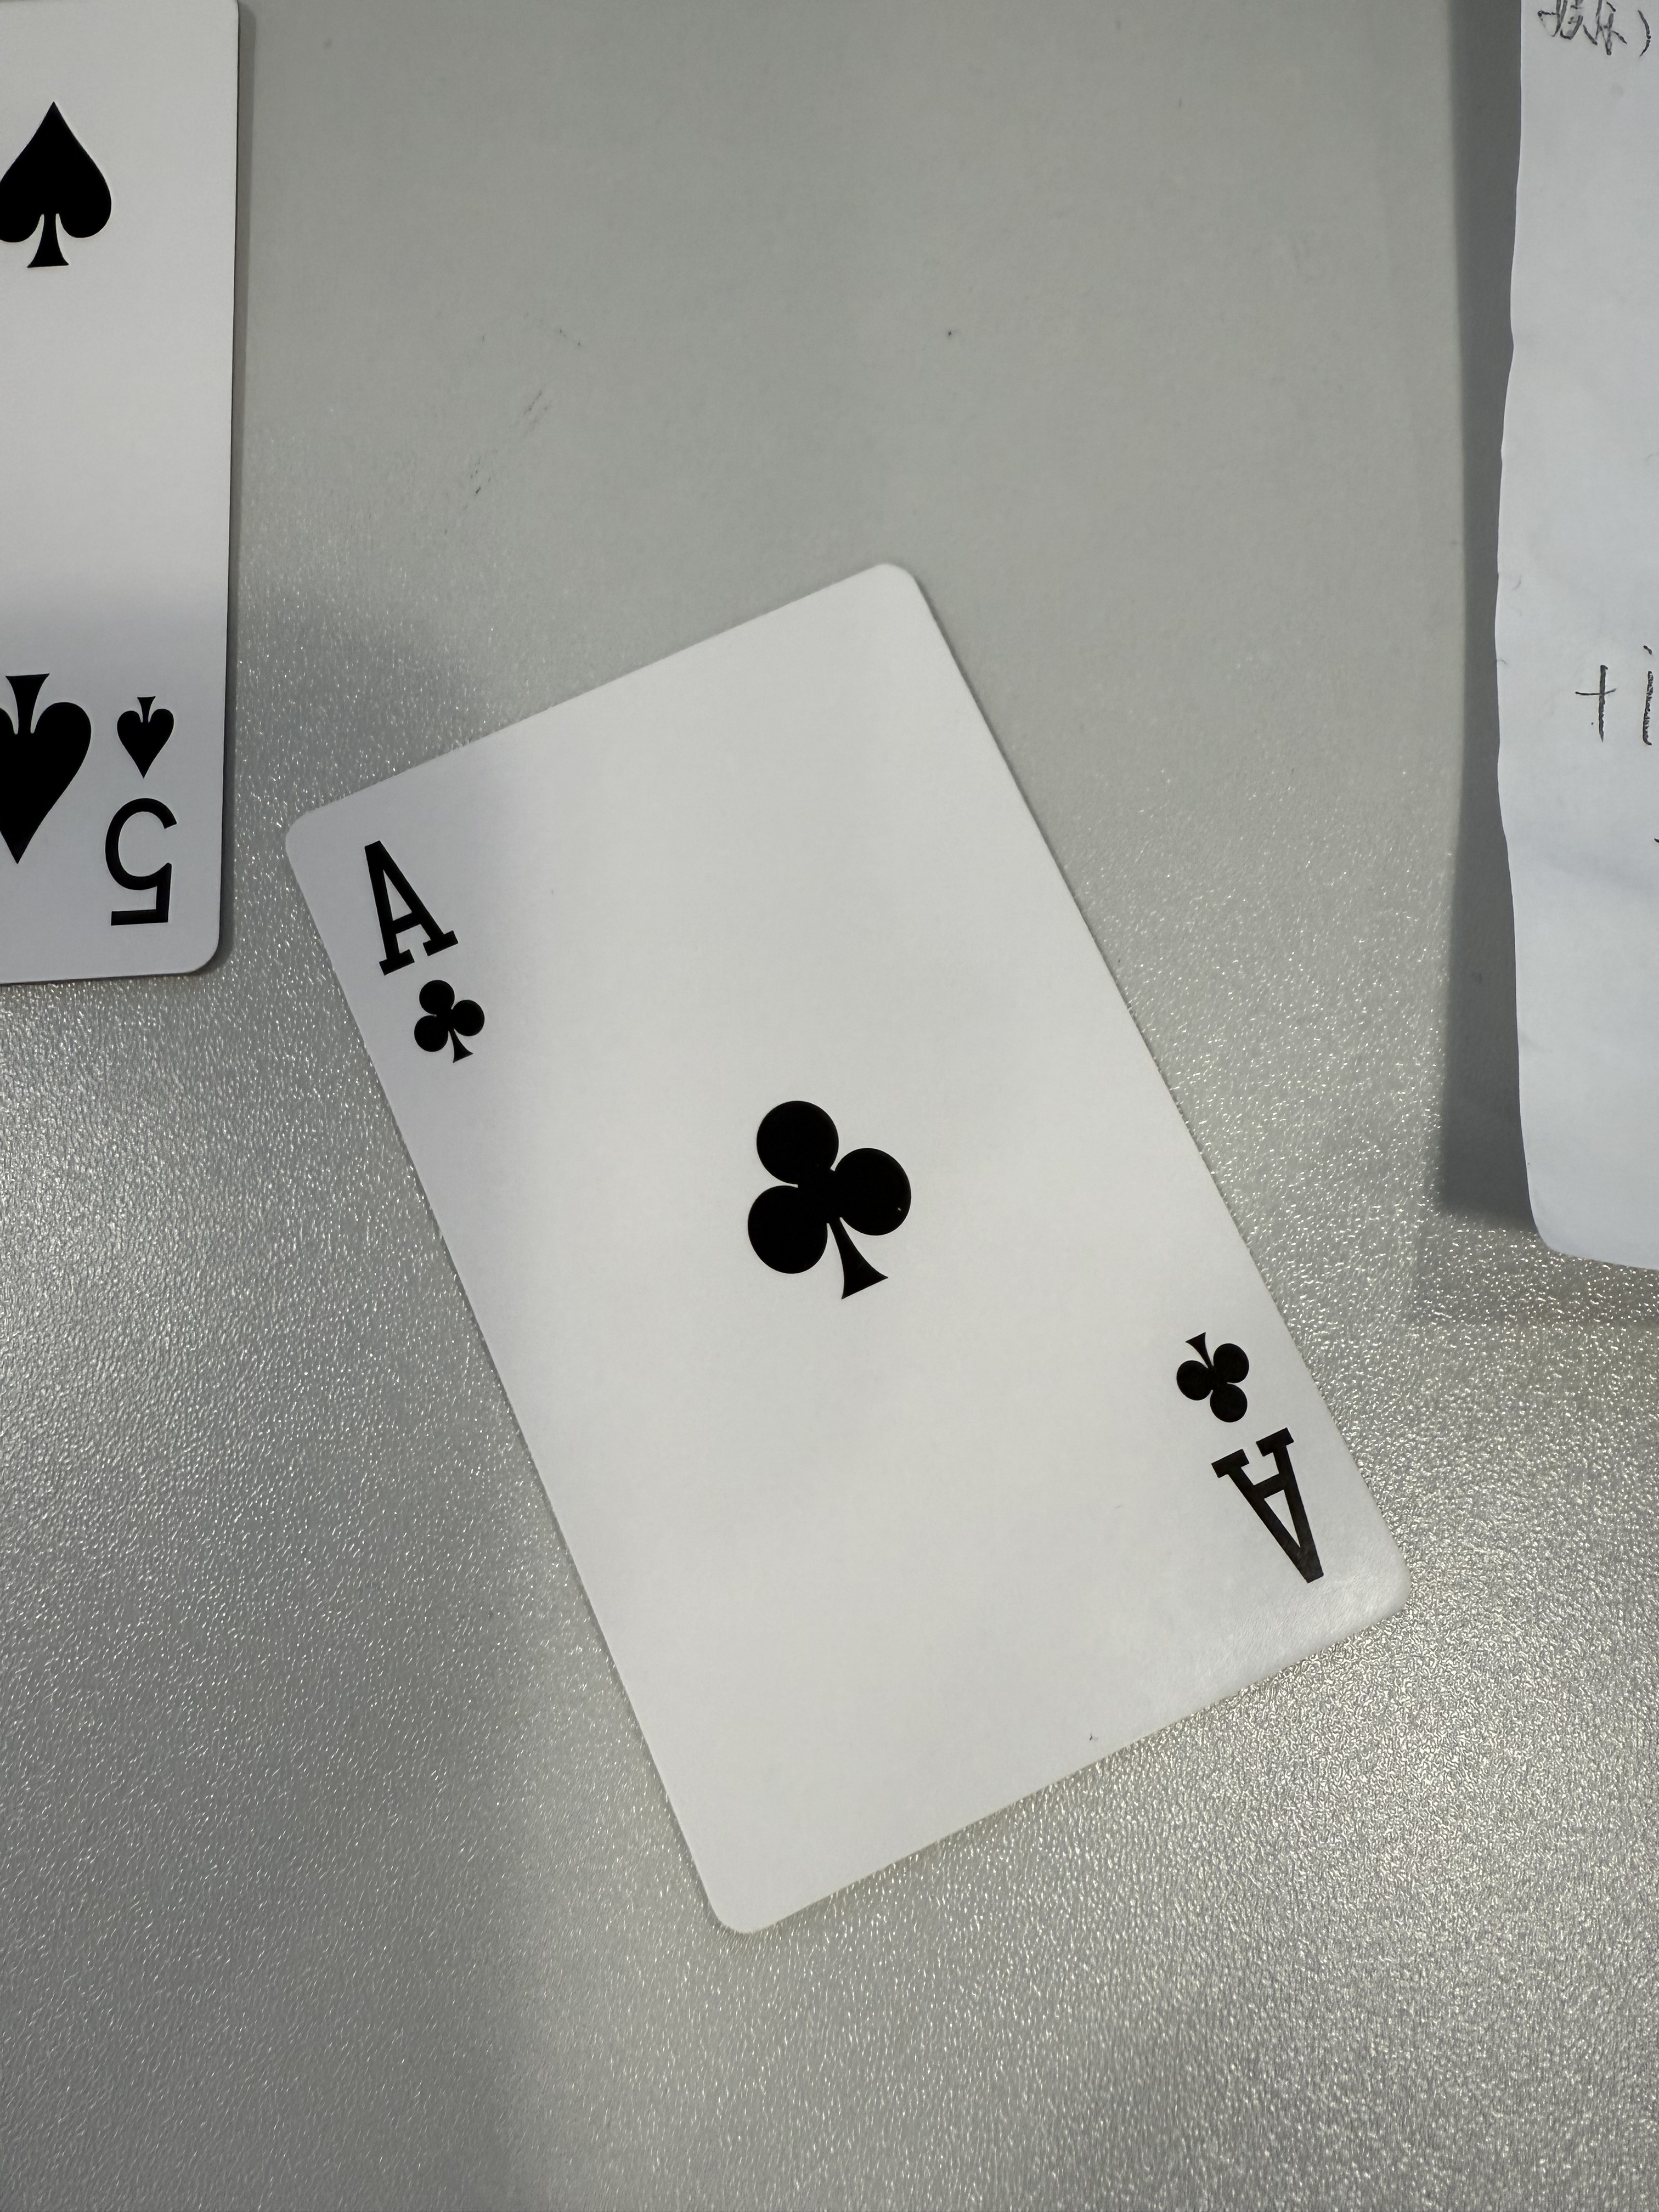poker: (277, 554, 1420, 1949), (0, 0, 246, 995)
